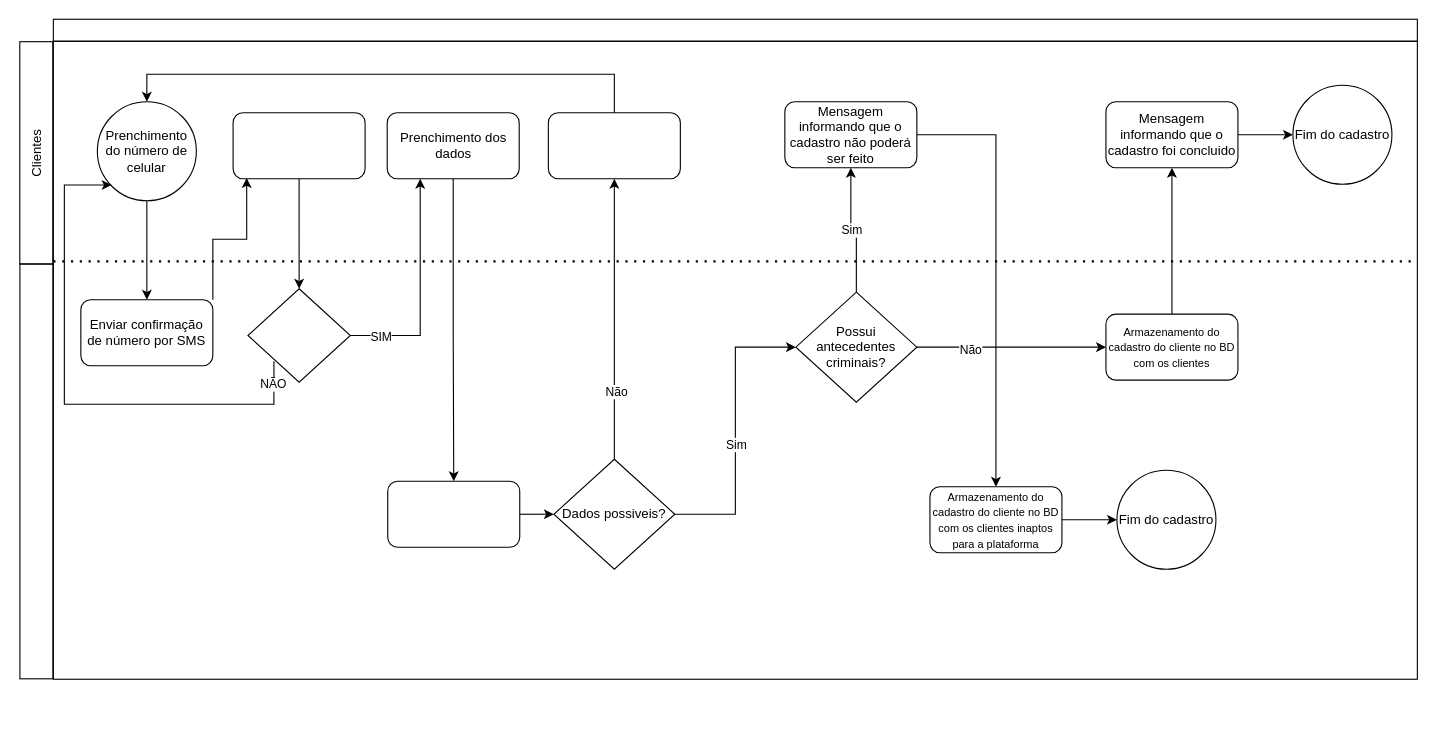
The diagram is 1437 pixels wide and 735 high, and some of its shapes have lost their labels. Here are the shapes that lost their labels. From the top down, the box of each, then its label:
(52, 18, 1417, 41): Cadastro dos Clientes
(232, 112, 365, 179): Cola o SMS recebido
(547, 112, 680, 179): Mensagem informando que o dados são repetidos ou invalidos
(247, 288, 350, 382): Número confirmado?
(19, 263, 53, 679): Sistema
(387, 480, 520, 547): Processamento dos dados
